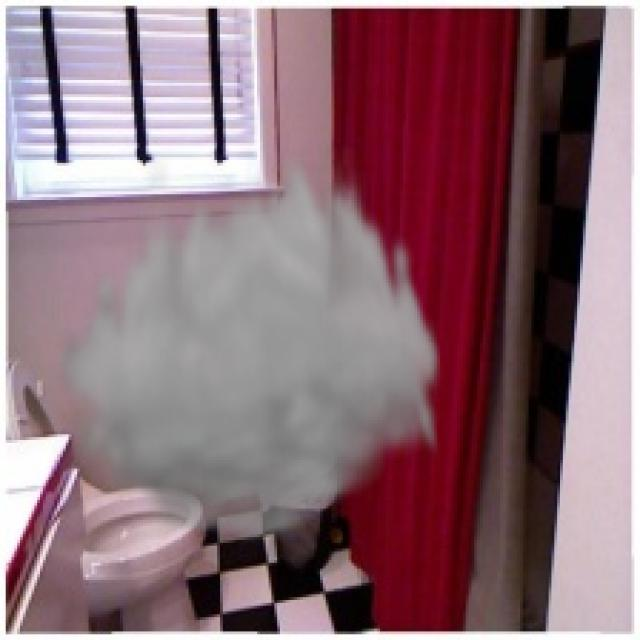smoke: (51, 143, 446, 548)
